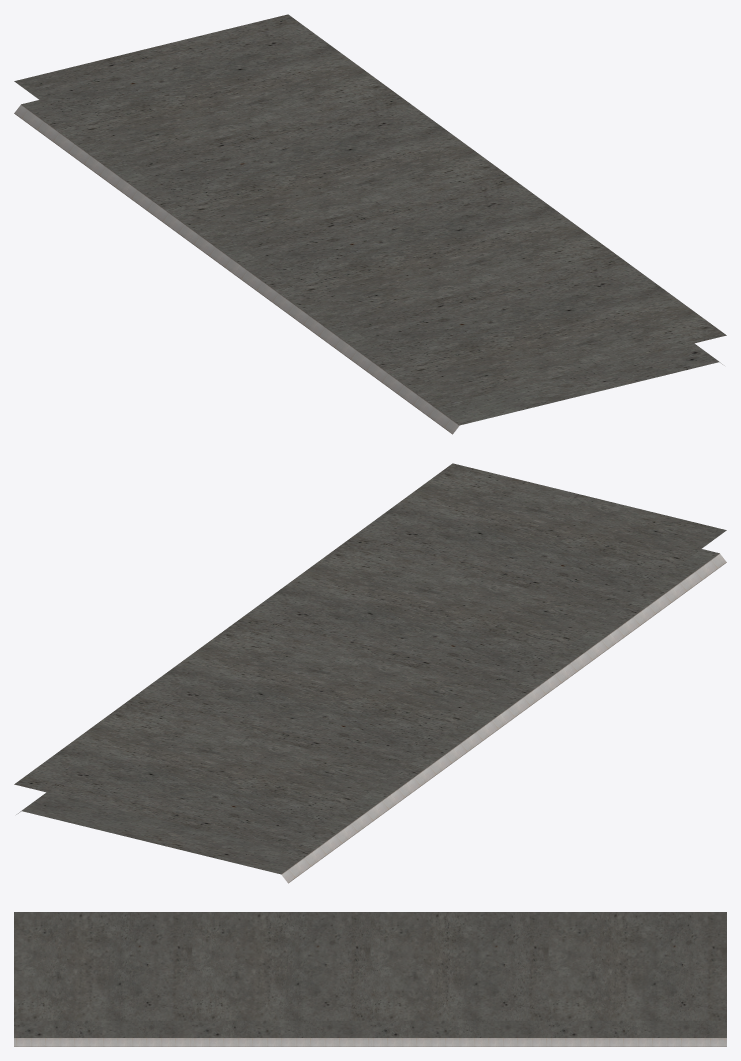
Rendered from roof.fbx.
The picture shows the model from 3 angles, top to bottom: view 1: azimuth 30°, elevation 25°; view 2: azimuth 150°, elevation 25°; view 3: azimuth 270°, elevation 25°; orthographic projection. The views are drawn at different scales.
Visible parts, largest first — view 1: Tunnel.001; view 2: Tunnel.001; view 3: Tunnel.001.
Boxes of the visible parts, <box> form: Tunnel.001: <box>14,14,726,434</box>; Tunnel.001: <box>14,463,726,883</box>; Tunnel.001: <box>14,912,726,1046</box>.
Size of the model in its own units: 2310 by 260 by 6400.
